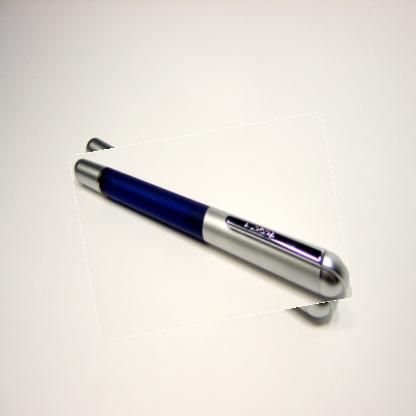Pen: (76, 123, 346, 331)
